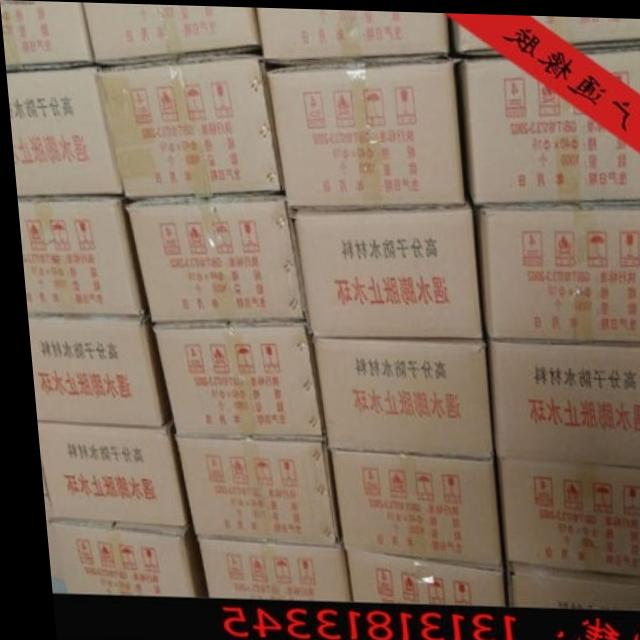box: (267, 61, 463, 206), (95, 52, 280, 199), (460, 56, 640, 201), (287, 203, 479, 337), (121, 190, 300, 322), (473, 200, 640, 341), (306, 336, 487, 456), (321, 448, 495, 564), (481, 337, 640, 463), (147, 323, 317, 438), (166, 437, 332, 545), (491, 457, 640, 574), (23, 316, 166, 427), (31, 421, 180, 526), (6, 67, 120, 202), (16, 200, 143, 316), (38, 518, 196, 596), (81, 3, 262, 66), (257, 7, 453, 62), (335, 547, 497, 604), (189, 539, 341, 598), (497, 558, 640, 608), (2, 3, 94, 72), (535, 12, 640, 45), (580, 47, 640, 90), (448, 13, 499, 53)
